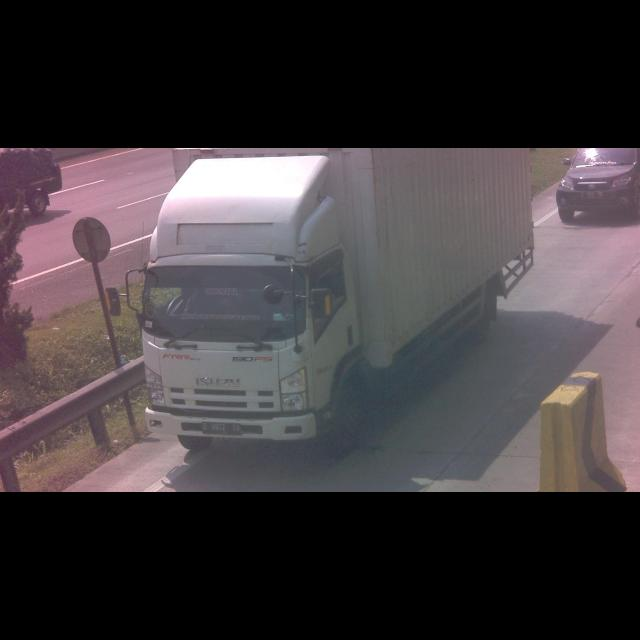plate: (200, 421, 242, 437)
